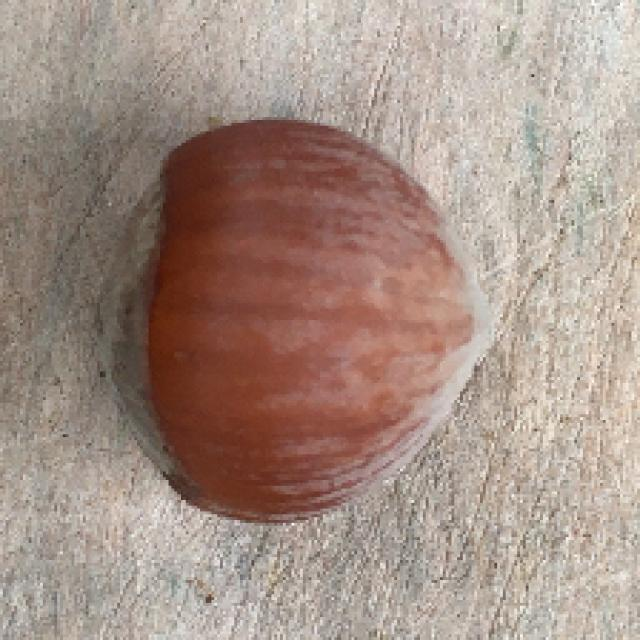qualityHazelnut: (99, 113, 505, 527)
